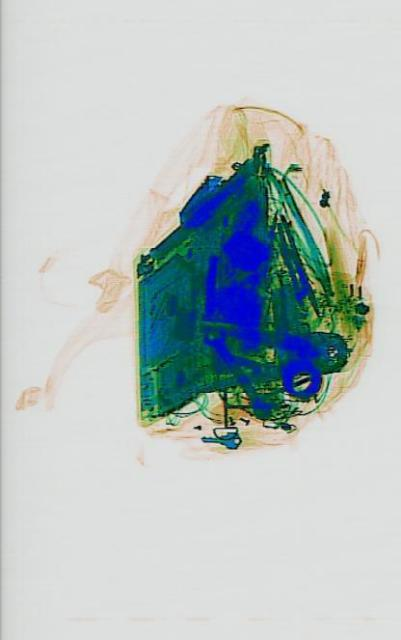Pliers: (196, 316, 347, 392)
Wrench: (200, 314, 275, 430)
